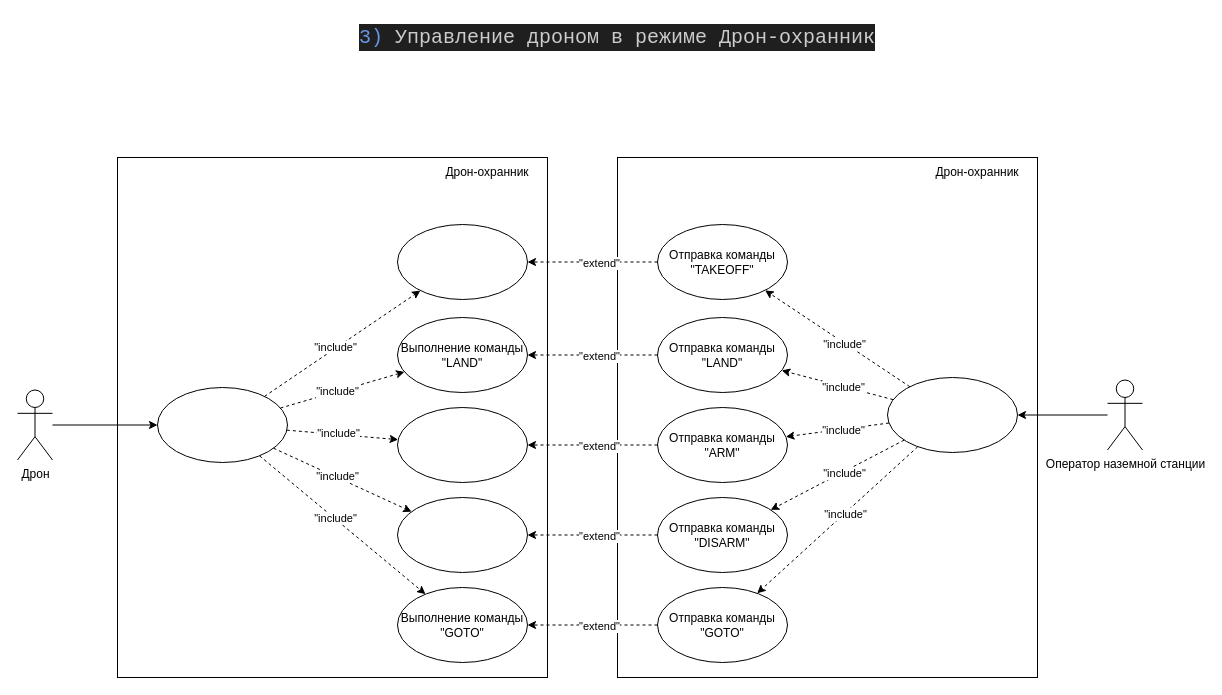
The diagram is 1222 pixels wide and 695 high, and some of its shapes have lost their labels. Here are the shapes that lost their labels. From the top down, the centre of each, then its label:
(462,262): Выполнение команды "TAKEOFF"
(222,424): Обработка и выполнение команд управления
(952,414): Отправка команд управления на дрон
(462,444): Выполнение команды "ARM"
(462,534): Выполнение команды "DISARM"
